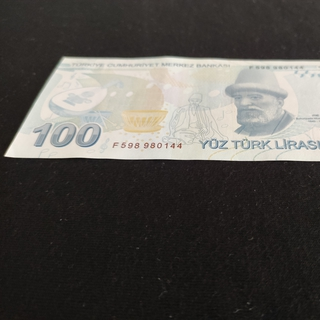100TLBack: (2, 55, 320, 162)
